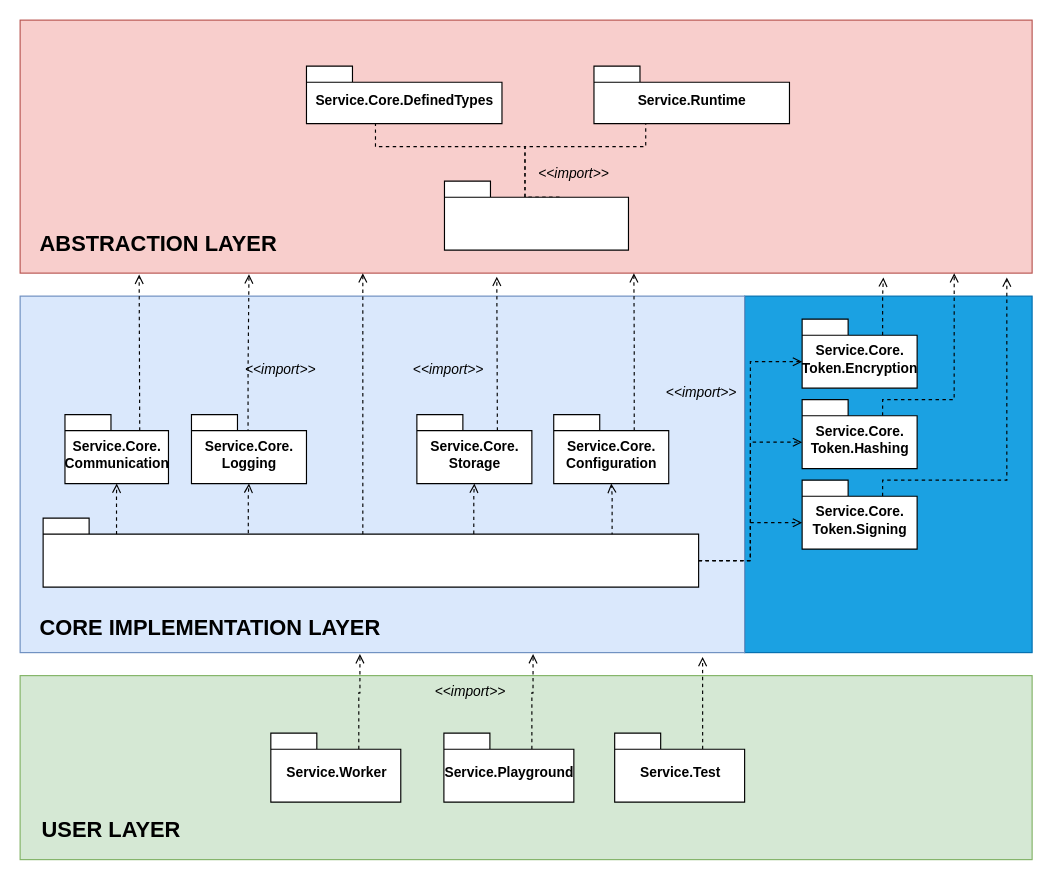
This 1052x880 diagram has some shape labels left out. The box of each missing label's shape, as (x1, y1, x2, y2) in pixels:
Service.Core: (42, 517, 699, 587)
Service.Core.Abstractions: (443, 180, 628, 250)
